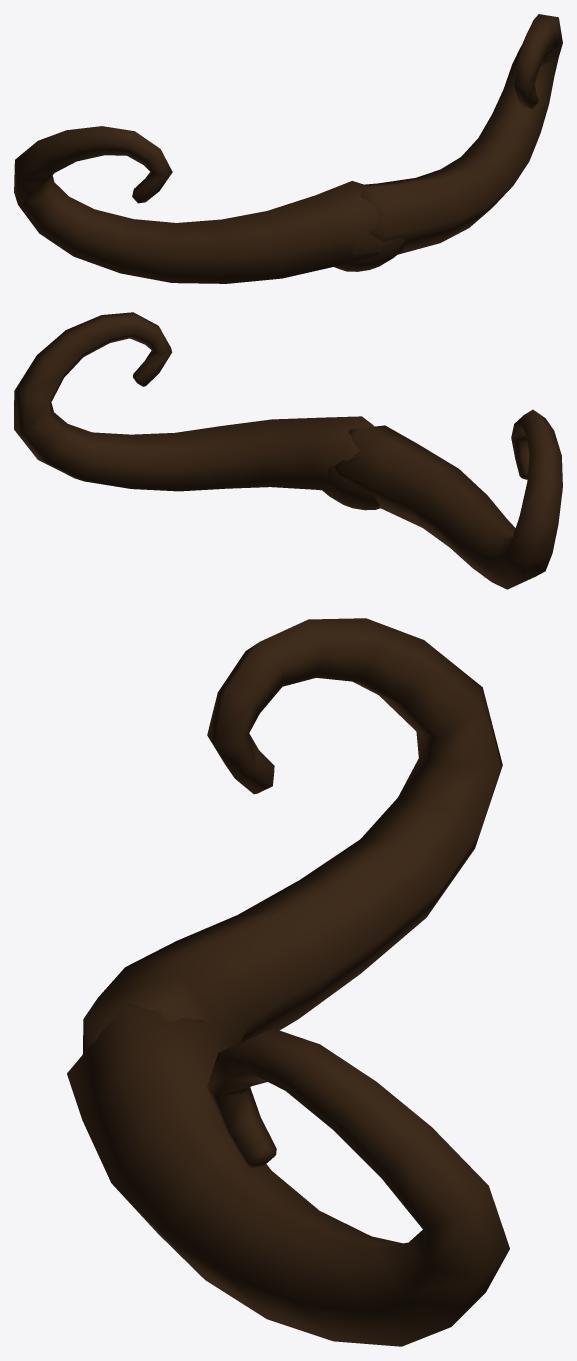
The model's file is beard_handlebar.glb.
3 renders of one model, top to bottom at view 1: azimuth 30°, elevation 25°; view 2: azimuth 150°, elevation 25°; view 3: azimuth 270°, elevation 25°, orthographic. The views are drawn at different scales.
Visible parts, largest first — view 1: BeardHandlebar; view 2: BeardHandlebar; view 3: BeardHandlebar.
Boxes of the visible parts, x1,y1,x2,y2 form: BeardHandlebar: (14,14,562,283); BeardHandlebar: (14,312,562,589); BeardHandlebar: (67,618,509,1346).
Bounding box in the file's own units: 0.5015 × 0.1477 × 0.1787.
